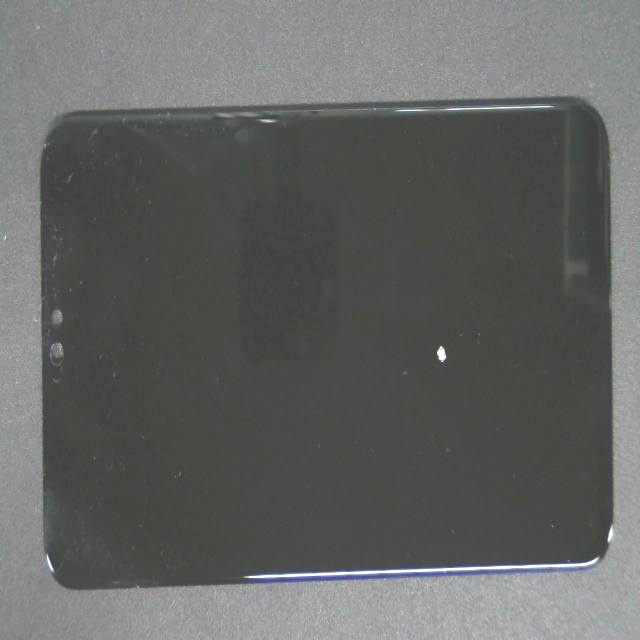stain: (229, 146, 640, 490)
